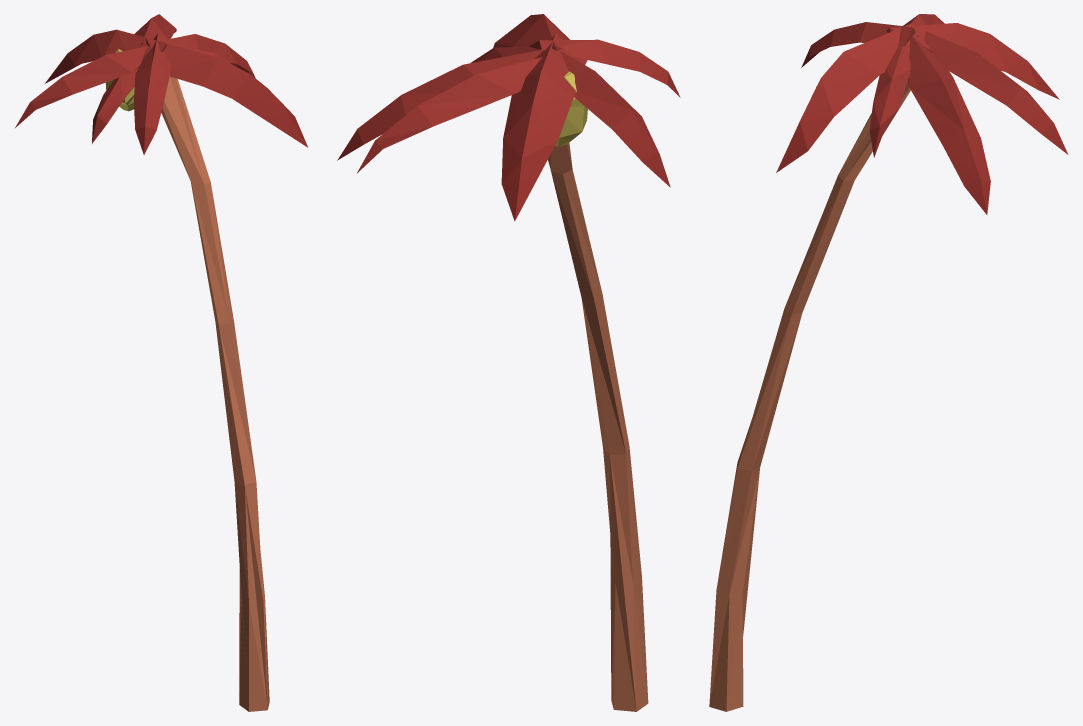
The model's file is Tree_12_gradient_red_vc.fbx.
3 views of the same model, side by side, from view 1: azimuth 30°, elevation 25°; view 2: azimuth 150°, elevation 25°; view 3: azimuth 270°, elevation 25° (orthographic). The views are drawn at different scales.
Parts seen in each view (by area): view 1: Tree_12_gradient_red_vc; view 2: Tree_12_gradient_red_vc; view 3: Tree_12_gradient_red_vc.
Part boxes in pixels (x1,y1,x2,y2): Tree_12_gradient_red_vc: (15, 14, 308, 711); Tree_12_gradient_red_vc: (337, 14, 680, 711); Tree_12_gradient_red_vc: (709, 14, 1068, 711).
Size of the model in its own units: 80.91 by 183 by 88.81.
